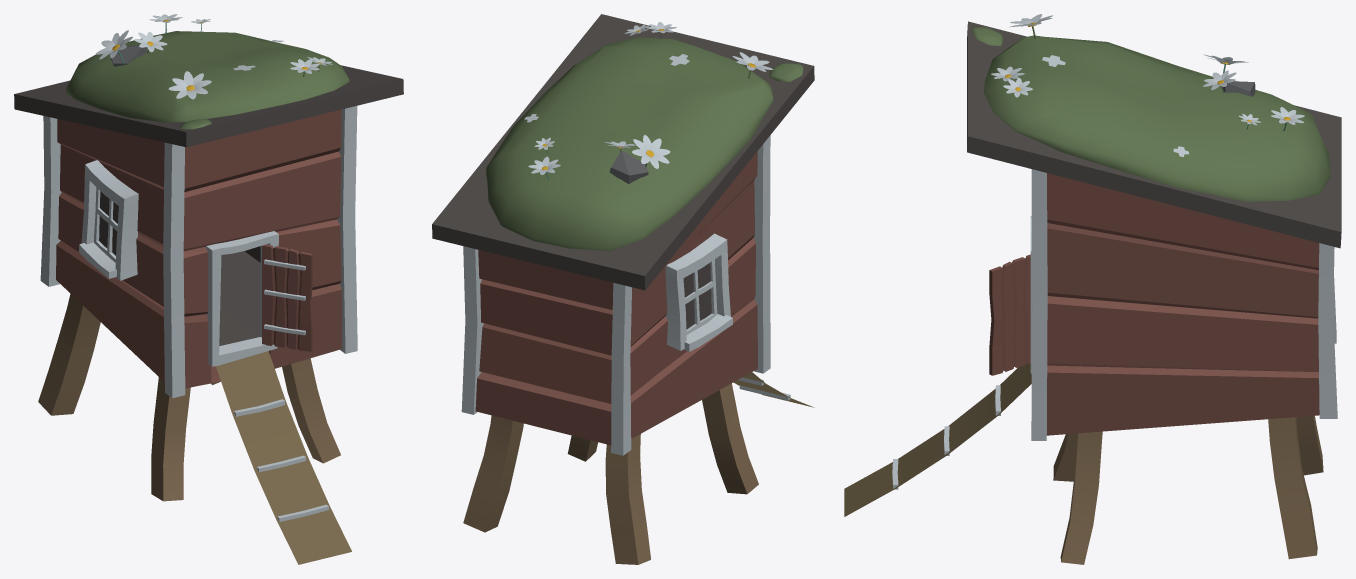
The model's file is P_chickenhouse_01_LD.fbx.
The picture shows the model from 3 angles, left to right: view 1: azimuth 30°, elevation 25°; view 2: azimuth 150°, elevation 25°; view 3: azimuth 270°, elevation 25°; orthographic projection. The views are drawn at different scales.
Visible parts, largest first — view 1: P_chickenhouse_01; view 2: P_chickenhouse_01; view 3: P_chickenhouse_01.
Part boxes in pixels (bbox=[...]): P_chickenhouse_01: bbox=[14, 14, 403, 564]; P_chickenhouse_01: bbox=[432, 14, 814, 564]; P_chickenhouse_01: bbox=[844, 14, 1341, 564].
Bounding box in the file's own units: 93.11 × 176 × 170.
1 material, 1 textured.
